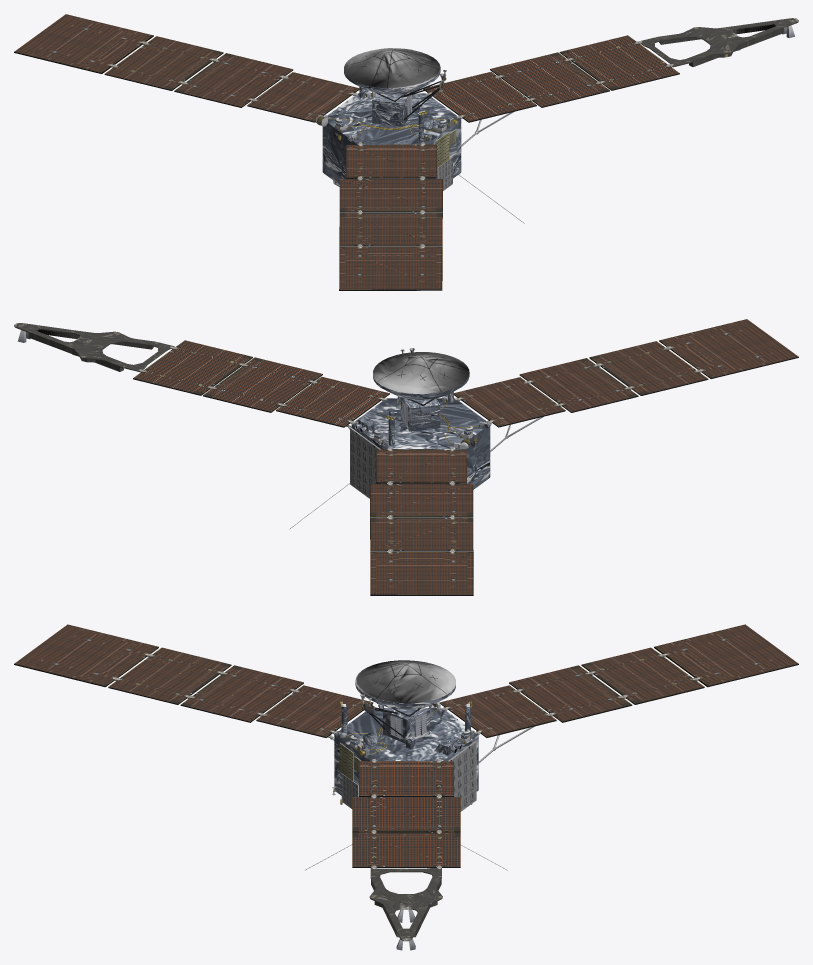
File: juno.obj
3 views of the same model, one above another, from view 1: azimuth 30°, elevation 25°; view 2: azimuth 150°, elevation 25°; view 3: azimuth 270°, elevation 25° (orthographic). The views are drawn at different scales.
Parts seen in each view (by area): view 1: shiny_panels_Geometry-Body.021, silver_foil_Geometry-Body.002, dish_top_2_Geometry-Mesh.003, solar_panels_Geometry-Body.006, tex_01_Geometry-Body.003, black_krinkle_Geometry-Body.007, dish_bottom_Geometry-Mesh; view 2: shiny_panels_Geometry-Body.021, silver_foil_Geometry-Body.002, dish_top_2_Geometry-Mesh.003, tex_01_Geometry-Body.003, solar_panels_Geometry-Body.006, black_krinkle_Geometry-Body.007; view 3: shiny_panels_Geometry-Body.021, silver_foil_Geometry-Body.002, tex_01_Geometry-Body.003, dish_top_2_Geometry-Mesh.003, solar_panels_Geometry-Body.006, black_krinkle_Geometry-Body.007.
Boxes of the visible parts, box(x1,y1,x2,y2) form: shiny_panels_Geometry-Body.021: box(14, 14, 679, 289); silver_foil_Geometry-Body.002: box(322, 87, 461, 186); dish_top_2_Geometry-Mesh.003: box(344, 48, 440, 88); solar_panels_Geometry-Body.006: box(417, 18, 798, 290); tex_01_Geometry-Body.003: box(110, 25, 794, 247); black_krinkle_Geometry-Body.007: box(14, 35, 679, 290); dish_bottom_Geometry-Mesh: box(344, 69, 440, 94); shiny_panels_Geometry-Body.021: box(133, 319, 798, 594); silver_foil_Geometry-Body.002: box(351, 391, 490, 489); dish_top_2_Geometry-Mesh.003: box(373, 352, 469, 393); tex_01_Geometry-Body.003: box(17, 330, 702, 552); solar_panels_Geometry-Body.006: box(14, 323, 174, 371); black_krinkle_Geometry-Body.007: box(133, 340, 798, 595); shiny_panels_Geometry-Body.021: box(14, 624, 798, 866); silver_foil_Geometry-Body.002: box(334, 704, 478, 800); tex_01_Geometry-Body.003: box(112, 653, 699, 950); dish_top_2_Geometry-Mesh.003: box(355, 660, 455, 702); solar_panels_Geometry-Body.006: box(369, 868, 442, 941); black_krinkle_Geometry-Body.007: box(14, 647, 798, 867).
Bounding box in the file's own units: 17.65 × 4.26 × 18.54.
9 materials, 9 textured.
